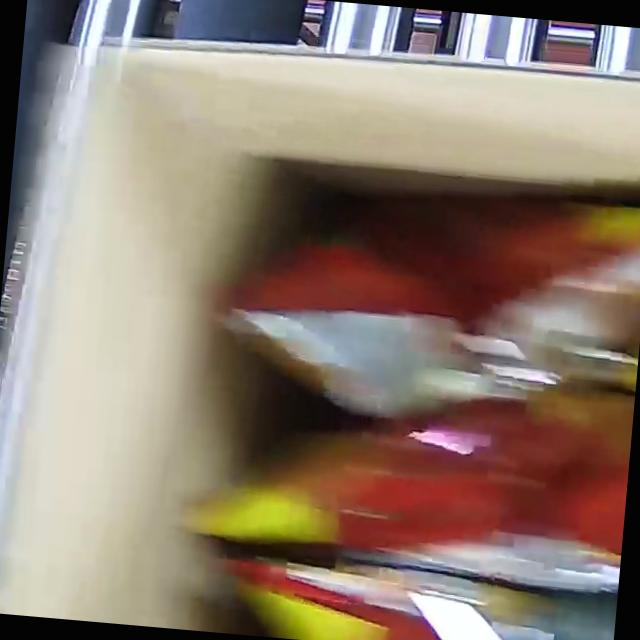masala: (138, 148, 640, 640)
